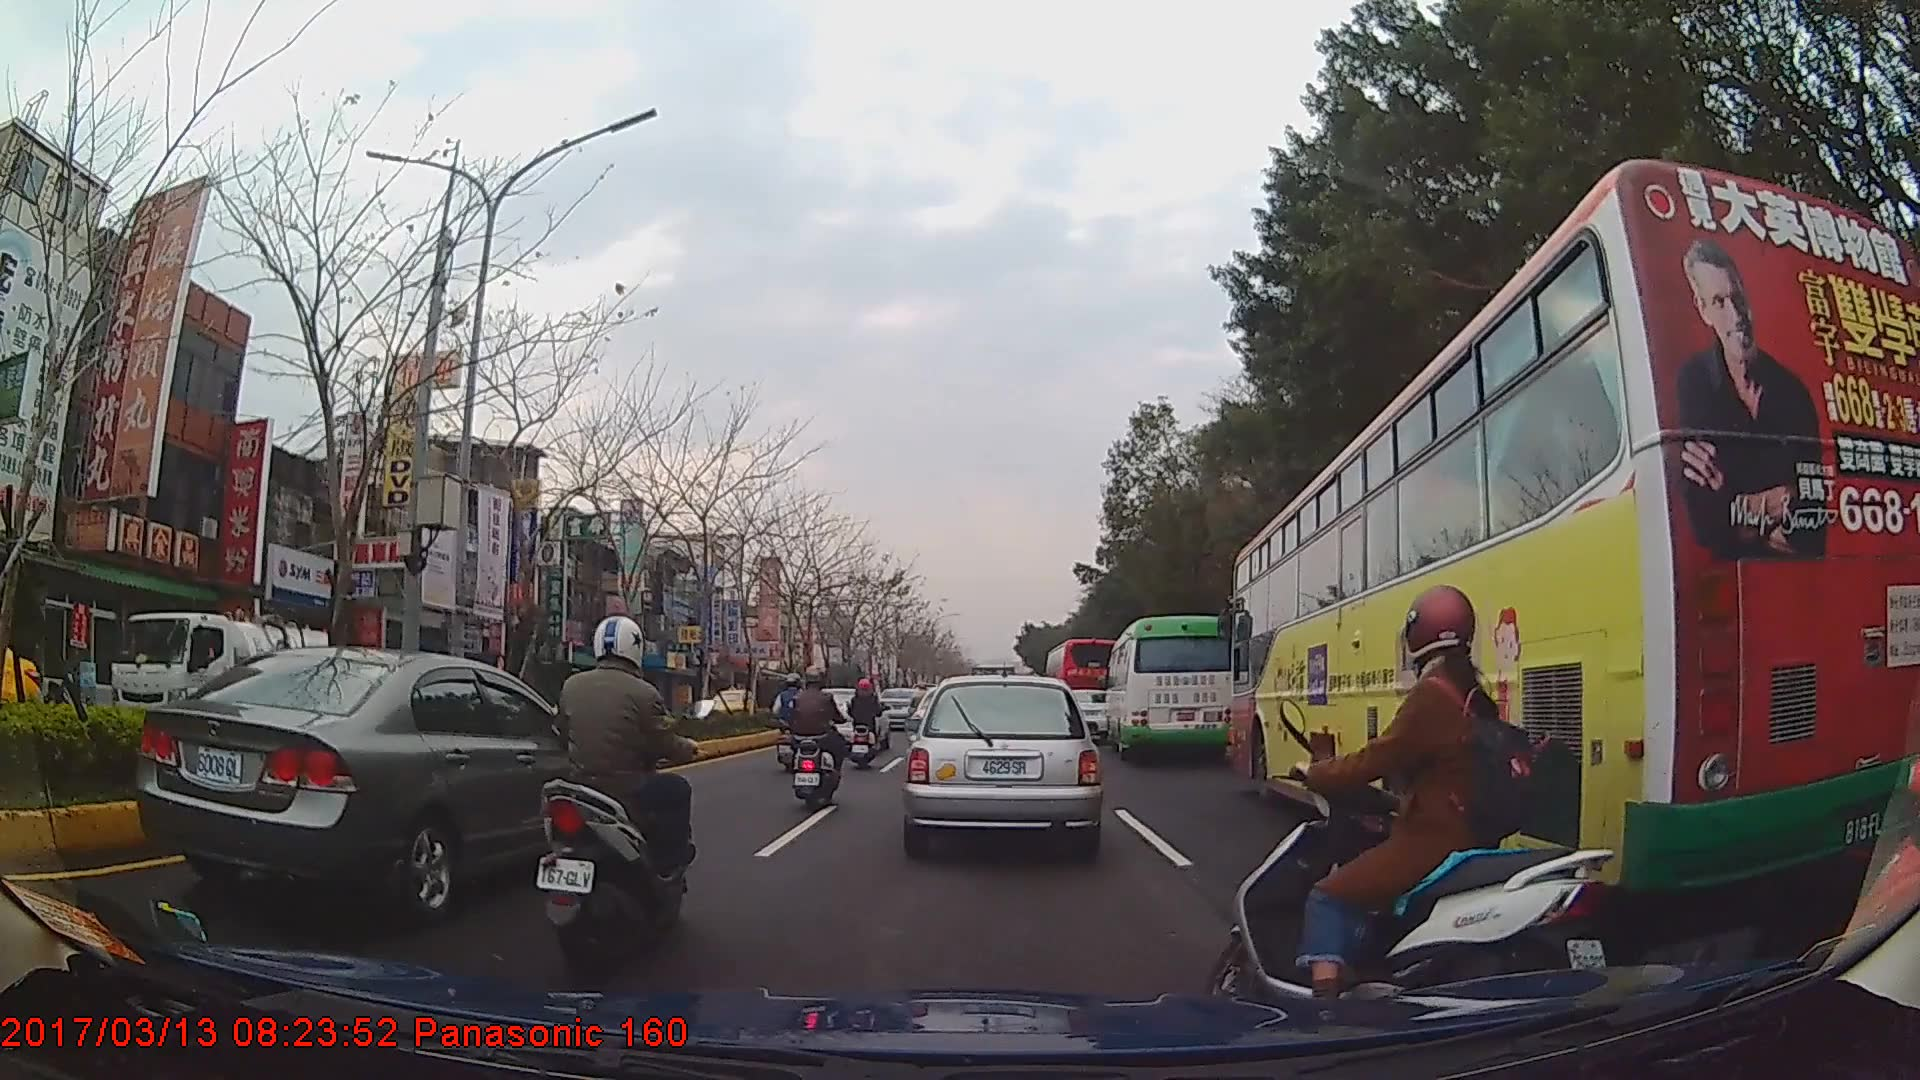rider: (1224, 588, 1618, 1039), (541, 618, 711, 960), (790, 665, 841, 811), (845, 676, 883, 772)
vehicle: (1228, 156, 1914, 907), (132, 644, 624, 921), (102, 609, 344, 764), (904, 673, 1101, 855), (1103, 614, 1235, 762), (1041, 635, 1123, 733), (798, 686, 891, 758), (701, 684, 760, 726)
